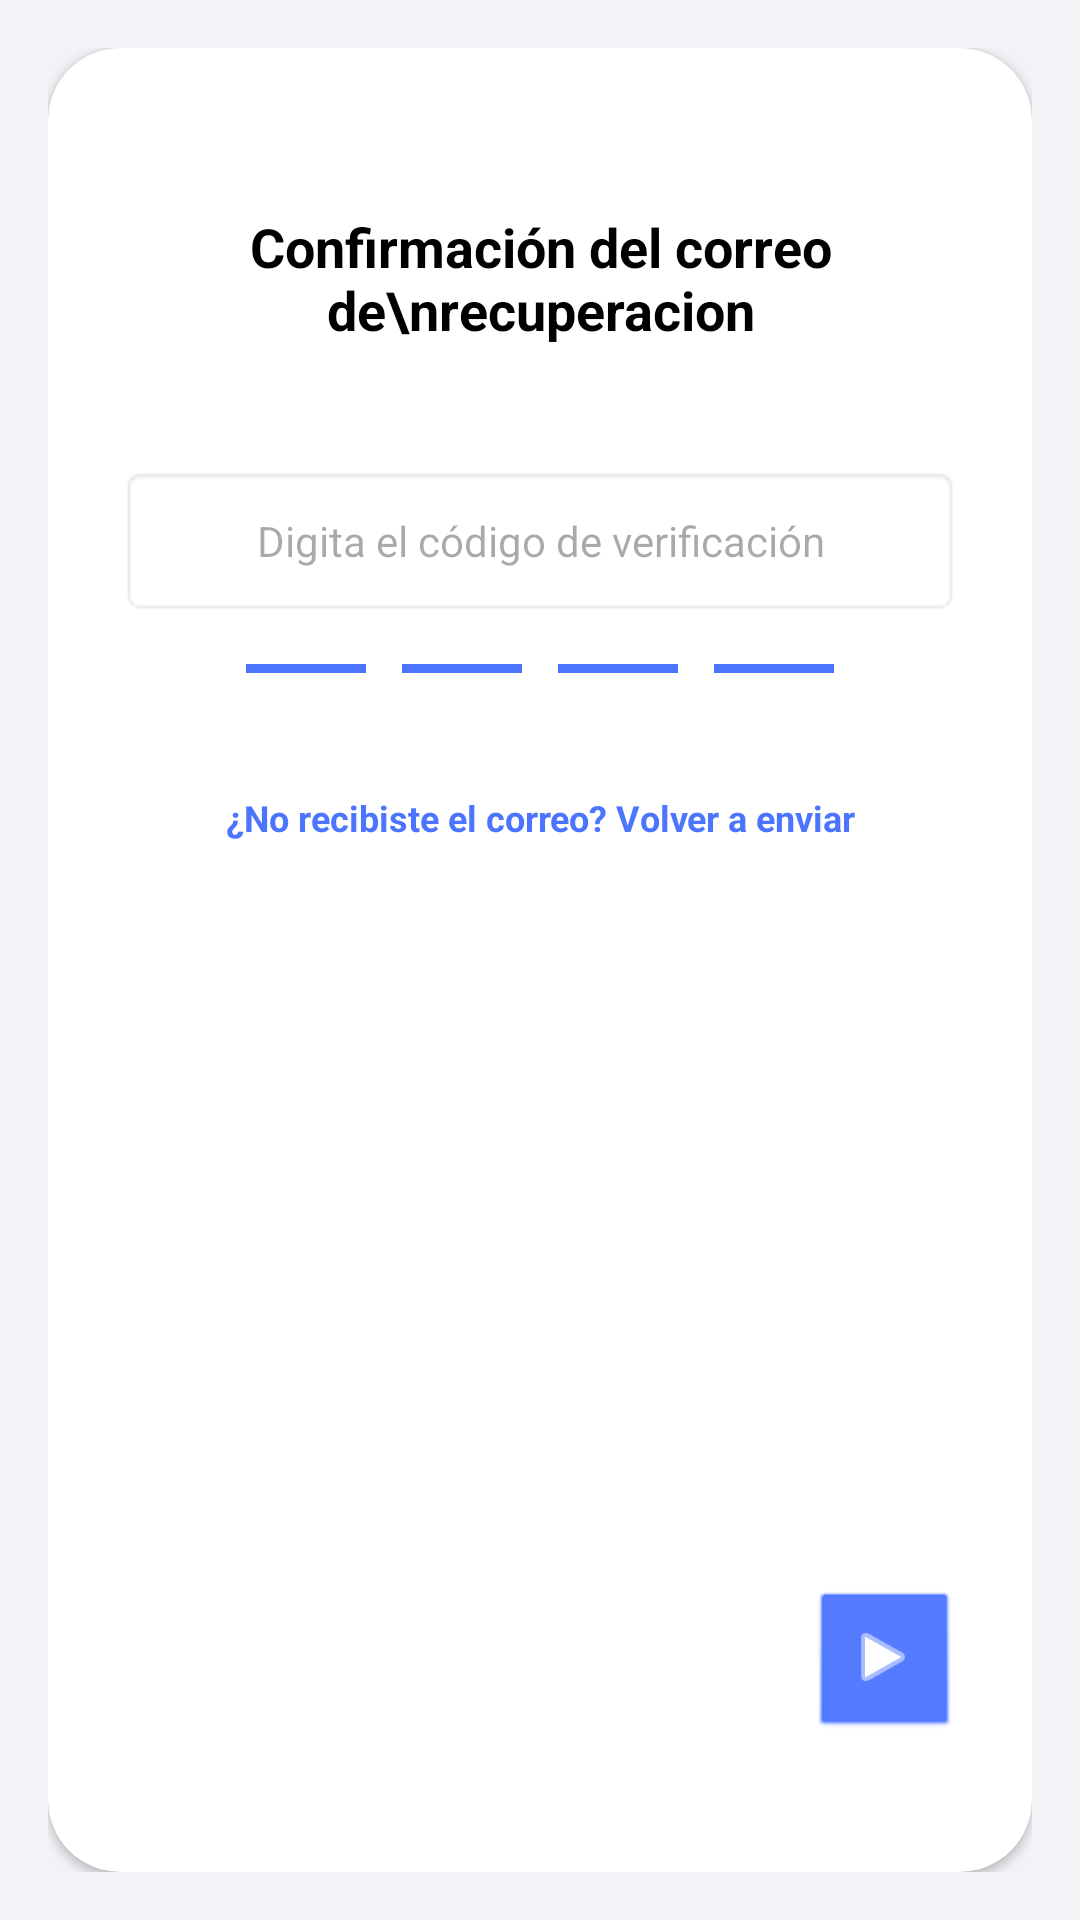

Locate icon controls on the screen. Image size 1080px x 1920px, boxes as (x1, y1, x2, y2).
Siguiente: (861, 1633, 905, 1681)
